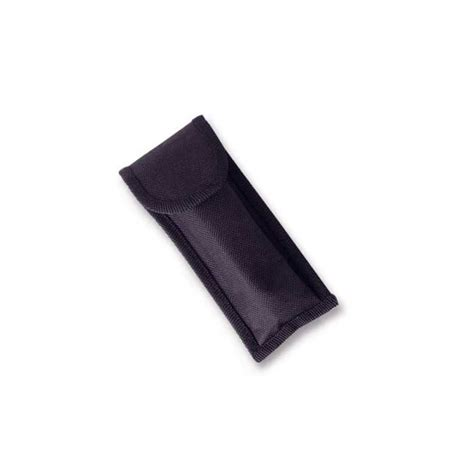nylon: (121, 115, 341, 365)
